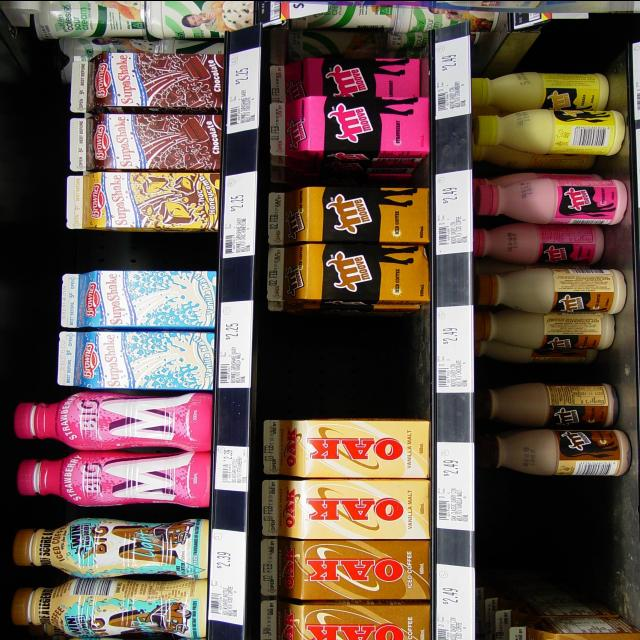empty_space: (270, 309, 415, 406), (501, 484, 608, 591), (68, 231, 210, 269)
